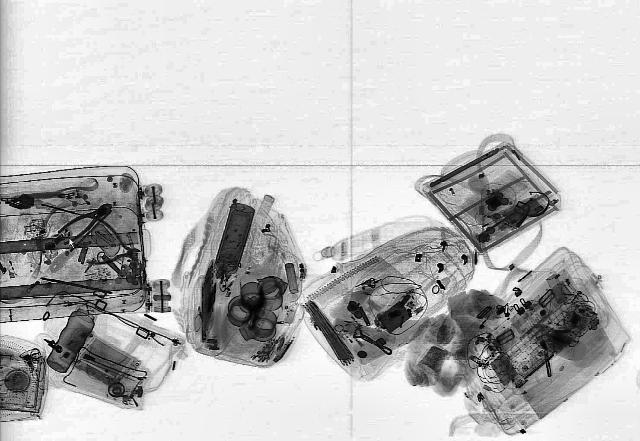Pliers: (63, 216, 155, 274), (48, 198, 118, 246)
